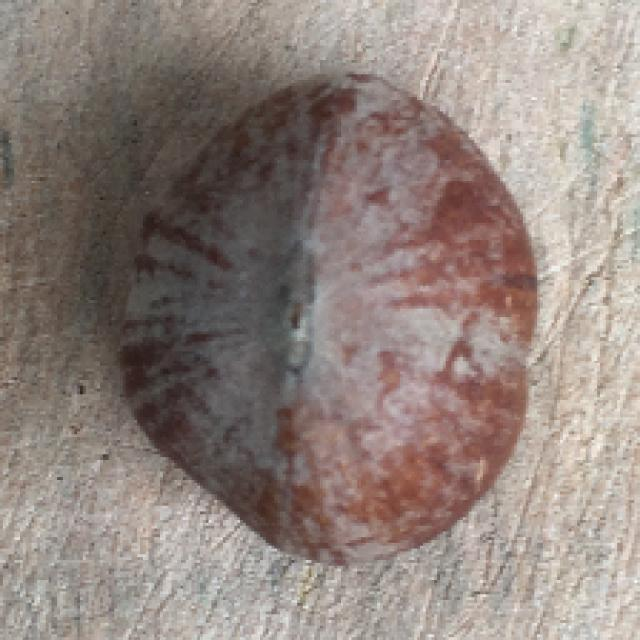qualityHazelnut: (110, 68, 542, 569)
